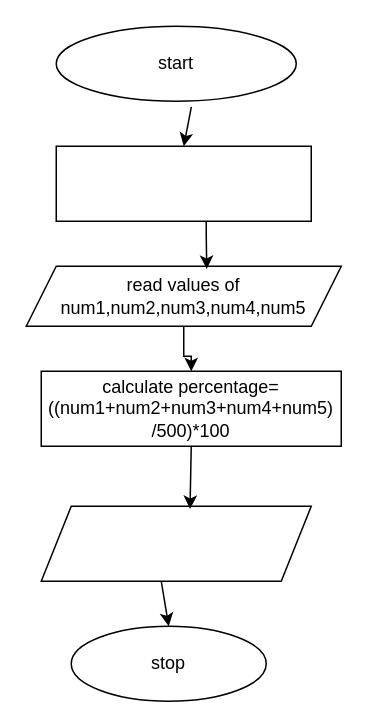
Some shapes in this 368 by 728 pixel diagram are drawn without their labels. The box of each missing label's shape, as (x1, y1, x2, y2) in pixels:
declare num1,num2,num3,num4,num5, percentage: (55, 145, 311, 221)
print percentage: (40, 505, 311, 581)
